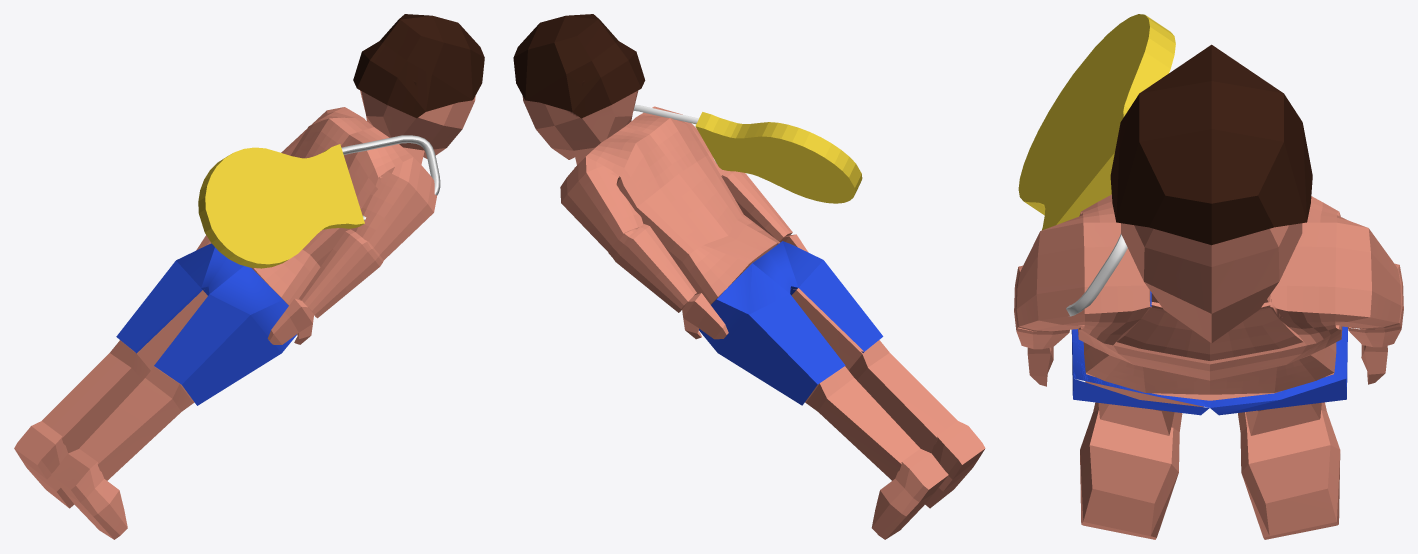
The model's file is char_fish.glb.
3 views of the same model, side by side, from view 1: azimuth 30°, elevation 25°; view 2: azimuth 150°, elevation 25°; view 3: azimuth 270°, elevation 25° (orthographic). The views are drawn at different scales.
Visible parts, largest first — view 1: char_Cube.000, Circle; view 2: char_Cube.000, Circle; view 3: char_Cube.000, Circle.
Boxes of the visible parts, <box> form: char_Cube.000: <box>14,14,484,539</box>; Circle: <box>198,135,440,268</box>; char_Cube.000: <box>513,14,985,539</box>; Circle: <box>633,104,862,203</box>; char_Cube.000: <box>1014,44,1403,539</box>; Circle: <box>1018,14,1175,316</box>.
Size of the model in its own units: 0.4851 by 0.4467 by 0.2022.
Materials: 2 (2 with a texture image).
